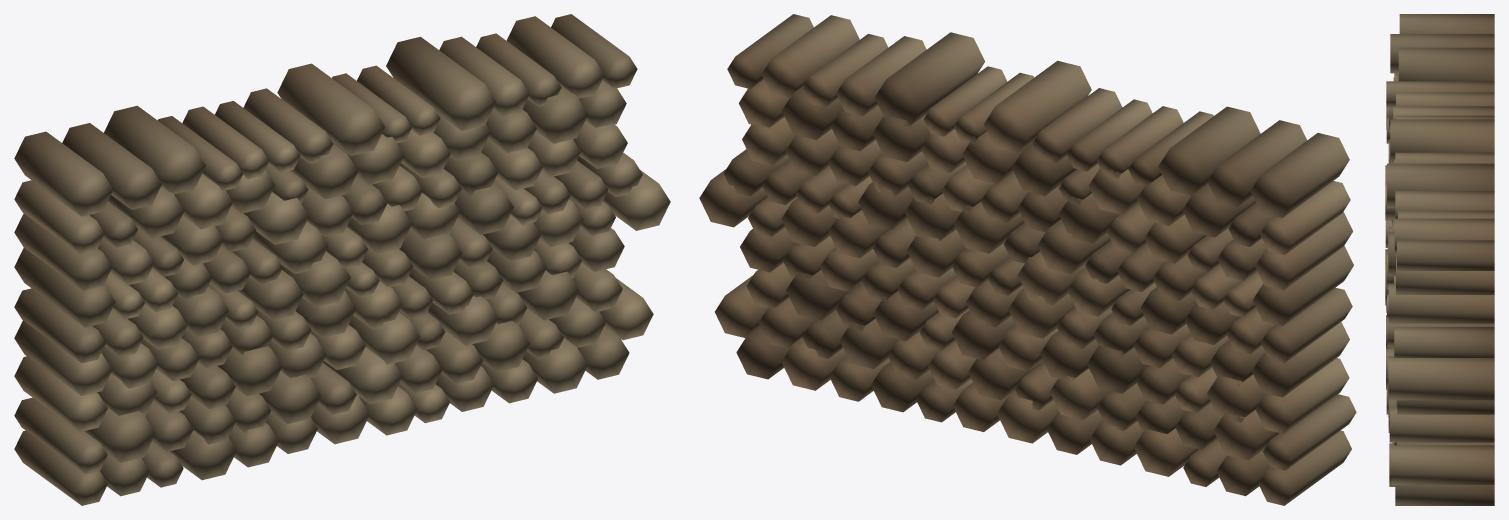
File: SM_LogPile_0_Wood.glb
3 views of the same model, side by side, from view 1: azimuth 30°, elevation 25°; view 2: azimuth 150°, elevation 25°; view 3: azimuth 270°, elevation 25° (orthographic). The views are drawn at different scales.
Visible parts, largest first — view 1: SM_LogPile_0_Wood; view 2: SM_LogPile_0_Wood; view 3: SM_LogPile_0_Wood.
Part boxes in pixels (<box>): SM_LogPile_0_Wood: <box>14,14,670,505</box>; SM_LogPile_0_Wood: <box>699,14,1356,505</box>; SM_LogPile_0_Wood: <box>1385,14,1494,505</box>.
Size of the model in its own units: 2.25 by 1.2 by 0.4295.
